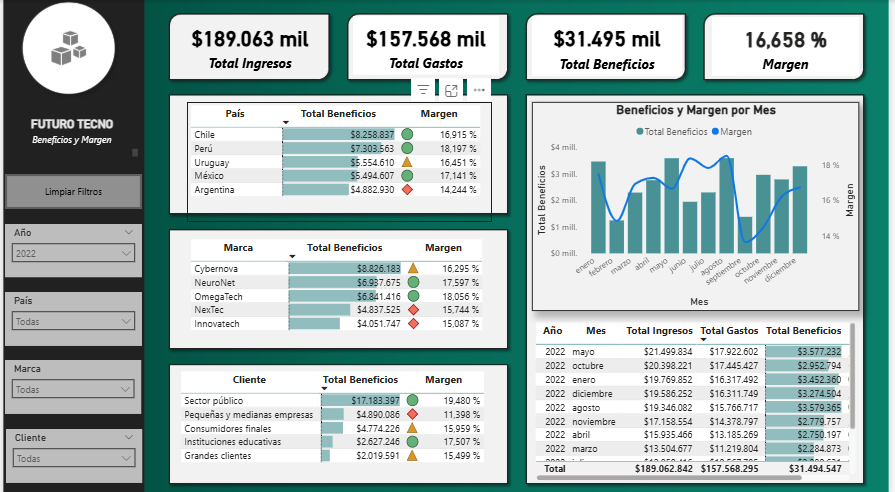

The page's visual inventory and layout, read from the dashboard file:
{"tool":"powerbi","page":{"name":"Página 1","canvas":[1280,720],"ordinal":0},"visuals":[{"type":"card","fields":{"Values":["Futuro_Tecno.Total Ingresos"]},"box":[251.6,23.1,211.1,85.3],"z":0},{"type":"card","fields":{"Values":["Futuro_Tecno.Total Gastos"]},"box":[506,23.1,211.1,85.3],"z":1000},{"type":"card","fields":{"Values":["Futuro_Tecno.Total Beneficios"]},"box":[764.8,23.1,216.9,86.7],"z":2000},{"type":"card","fields":{"Values":["Futuro_Tecno.Margen2"]},"box":[1025.1,24.6,212.5,85.3],"z":3000},{"type":"tableEx","fields":{"Values":["Futuro_Tecno.Fecha.Variación.Jerarquía de fechas.Año","Futuro_Tecno.Fecha.Variación.Jerarquía de fechas.Mes","Futuro_Tecno.Total Ingresos","Futuro_Tecno.Total Gastos","Futuro_Tecno.Total Beneficios","Futuro_Tecno.Margen"]},"box":[764.8,461.2,472.8,238.6],"z":4000},{"type":"lineStackedColumnComboChart","title":"Beneficios y Margen por Mes","fields":{"Y":["Futuro_Tecno.Total Beneficios"],"Category":["Futuro_Tecno.Fecha.Variación.Jerarquía de fechas.Mes"],"Y2":["Futuro_Tecno.Margen"]},"box":[764.8,147.5,472.8,302.2],"z":5000},{"type":"slicer","fields":{"Values":["Futuro_Tecno.Fecha.Variación.Jerarquía de fechas.Año"]},"box":[2.9,323.9,198.1,76.6],"z":6000},{"type":"slicer","fields":{"Values":["Futuro_Tecno.País"]},"box":[3.4,421.7,198.1,78.1],"z":7000},{"type":"slicer","fields":{"Values":["Futuro_Tecno.Marca"]},"box":[2.9,521,196.6,78.1],"z":8000},{"type":"slicer","fields":{"Values":["Futuro_Tecno.Cliente"]},"box":[3.9,620.2,196.6,78.1],"z":9000},{"type":"tableEx","fields":{"Values":["Futuro_Tecno.País","Futuro_Tecno.Total Beneficios","Futuro_Tecno.Margen"]},"box":[266,147.5,441,173.5],"z":10000},{"type":"tableEx","fields":{"Values":["Futuro_Tecno.Marca","Futuro_Tecno.Total Beneficios","Futuro_Tecno.Margen"]},"box":[266,341.2,451.1,173.5],"z":11000},{"type":"tableEx","fields":{"Values":["Futuro_Tecno.Cliente","Futuro_Tecno.Total Beneficios","Futuro_Tecno.Margen"]},"box":[251.6,532,465.5,147.5],"z":12000},{"type":"image","box":[0,0,198.1,147.5],"z":13000},{"type":"textbox","title":"FUTURO TECNO","box":[0.5,168.7,199.5,62.2],"z":14000},{"type":"actionButton","box":[2.4,252,198.1,50.6],"z":15000}]}

Visuals, with their boxes in screenshot pixels (x1, y1, x2, y2), scaled from the page's 1280x720 canvas onto the 895x492 screenshot:
card - Futuro_Tecno.Total Ingresos: crop(176, 16, 324, 74)
card - Futuro_Tecno.Total Gastos: crop(354, 16, 501, 74)
card - Futuro_Tecno.Total Beneficios: crop(535, 16, 686, 75)
card - Futuro_Tecno.Margen2: crop(717, 17, 865, 75)
tableEx - Futuro_Tecno.Fecha.Variación.Jerarquía de fechas.Año x Futuro_Tecno.Fecha.Variación.Jerarquía de fechas.Mes: crop(535, 315, 865, 478)
"Beneficios y Margen por Mes" lineStackedColumnComboChart: crop(535, 101, 865, 307)
slicer - Futuro_Tecno.Fecha.Variación.Jerarquía de fechas.Año: crop(2, 221, 141, 274)
slicer - Futuro_Tecno.País: crop(2, 288, 141, 342)
slicer - Futuro_Tecno.Marca: crop(2, 356, 139, 409)
slicer - Futuro_Tecno.Cliente: crop(3, 424, 140, 477)
tableEx - Futuro_Tecno.País x Futuro_Tecno.Total Beneficios: crop(186, 101, 494, 219)
tableEx - Futuro_Tecno.Marca x Futuro_Tecno.Total Beneficios: crop(186, 233, 501, 352)
tableEx - Futuro_Tecno.Cliente x Futuro_Tecno.Total Beneficios: crop(176, 364, 501, 464)
image: crop(0, 0, 139, 101)
"FUTURO TECNO" textbox: crop(0, 115, 140, 158)
actionButton: crop(2, 172, 140, 207)
